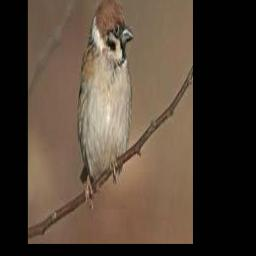Sparrow: (78, 0, 134, 208)
